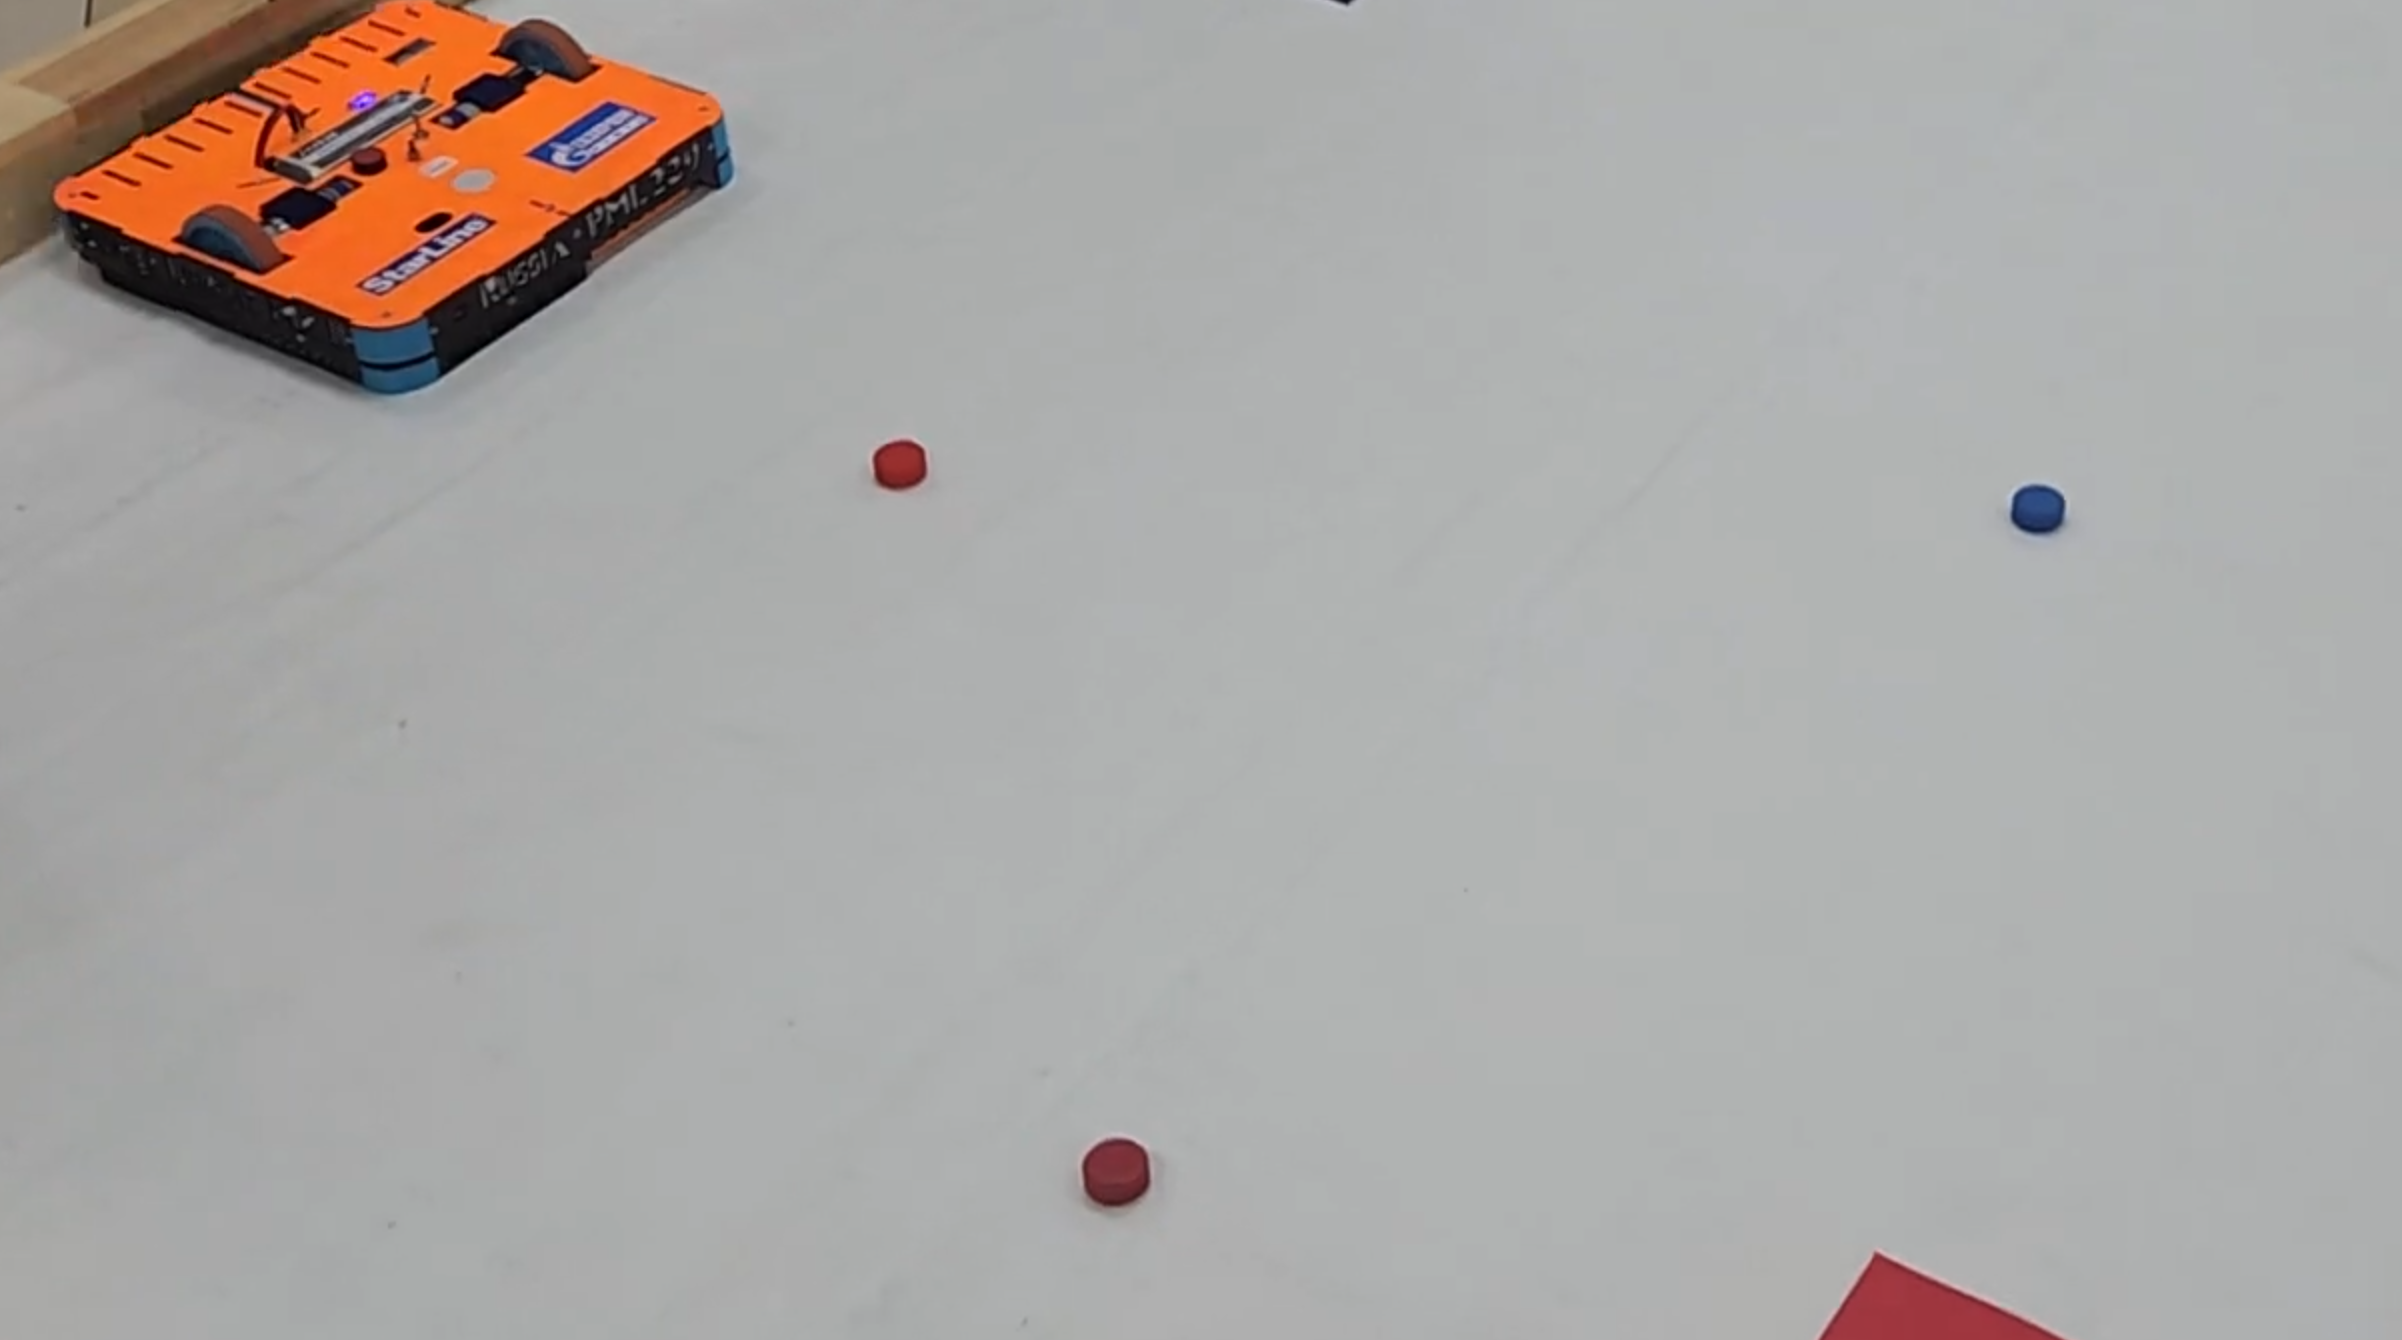puck: (1082, 1137, 1147, 1206), (2009, 484, 2065, 535), (873, 441, 925, 492)
